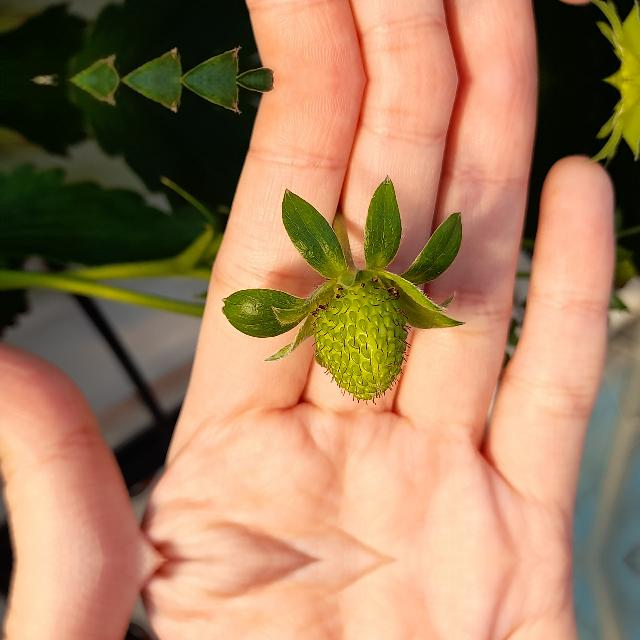Health_25: (309, 282, 411, 404)
